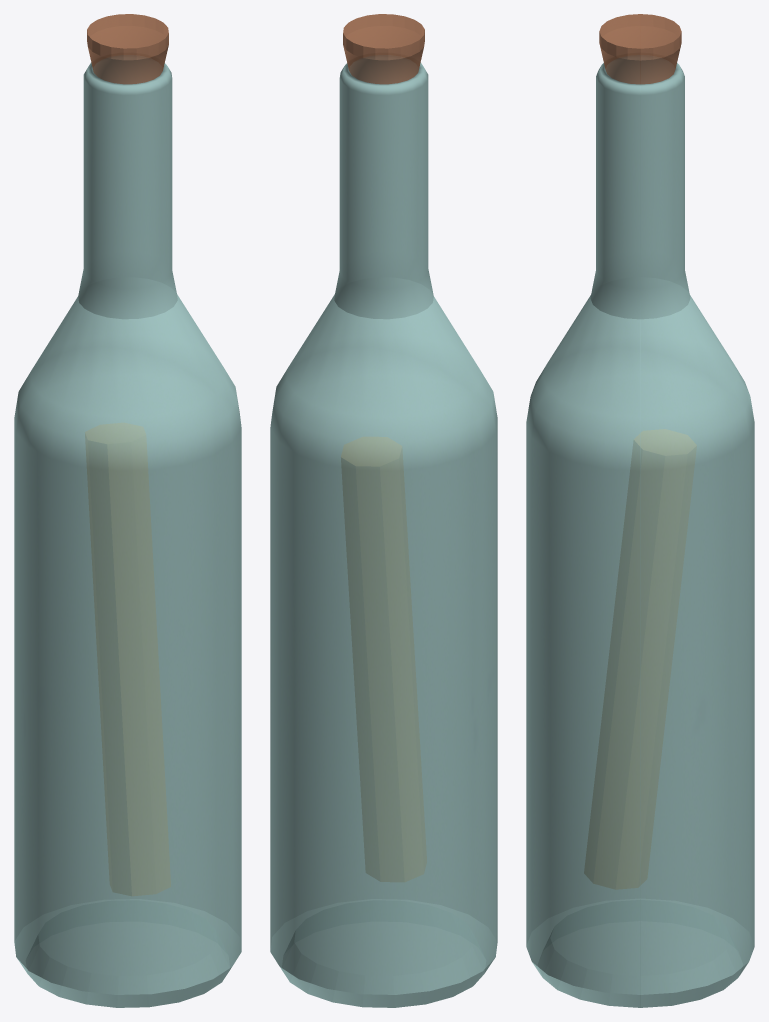
File: botallaOBJ.obj
3 renders of one model, left to right at view 1: azimuth 30°, elevation 25°; view 2: azimuth 150°, elevation 25°; view 3: azimuth 270°, elevation 25°, orthographic.
Visible parts, largest first — view 1: botella, pCylinder3; view 2: botella, pCylinder3; view 3: botella, pCylinder3.
Boxes of the visible parts, x1,y1,x2,y2 form: botella: (14,14,241,1007); pCylinder3: (85,423,170,895); botella: (270,14,497,1007); pCylinder3: (341,437,426,881); botella: (526,14,754,1007); pCylinder3: (584,429,696,888).
Size of the model in its own units: 0.3696 by 1.67 by 0.3696.
Materials: 2 (1 with a texture image).
